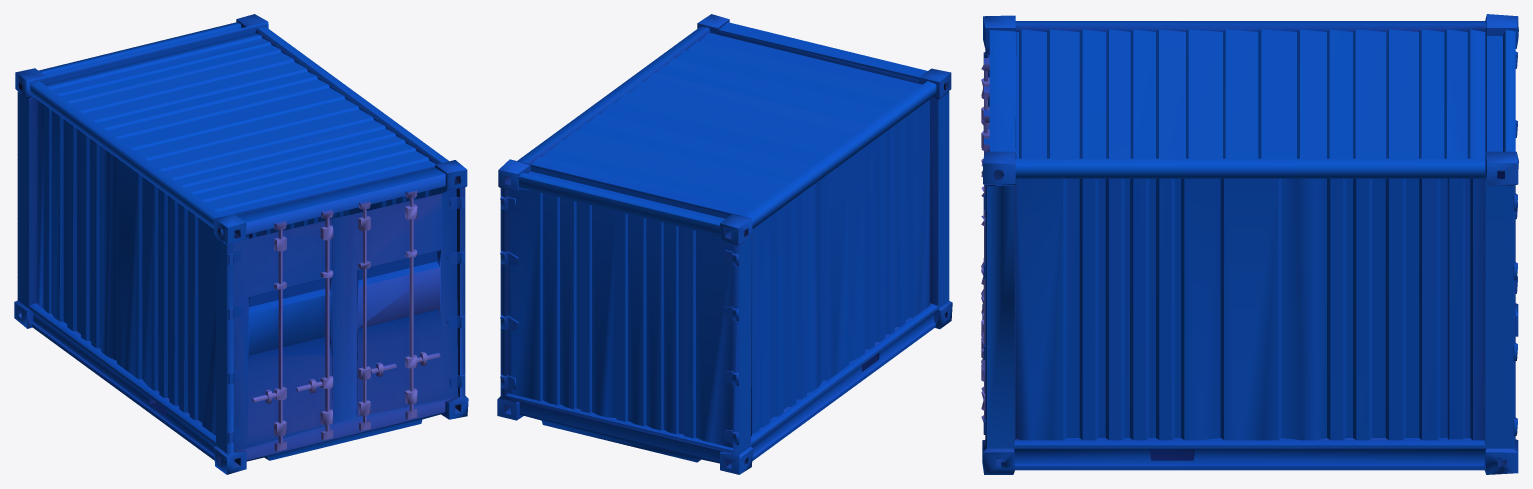
Rendered from model.progressive.glb.
3 views of the same model, side by side, from view 1: azimuth 30°, elevation 25°; view 2: azimuth 150°, elevation 25°; view 3: azimuth 270°, elevation 25° (orthographic). The views are drawn at different scales.
Parts seen in each view (by area): view 1: BlueShippingContainer3; view 2: BlueShippingContainer3; view 3: BlueShippingContainer3.
Part boxes in pixels (x1,y1,x2,y2): BlueShippingContainer3: (14, 14, 468, 474); BlueShippingContainer3: (497, 14, 952, 474); BlueShippingContainer3: (981, 14, 1518, 474).
Bounding box in the file's own units: 1.25 × 1.22 × 1.9.
1 material, 1 textured.
